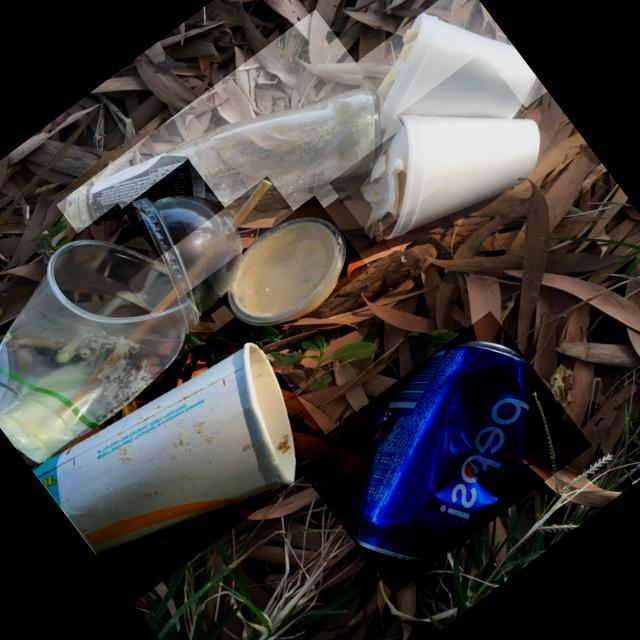Cup: (33, 343, 296, 555), (0, 239, 187, 463), (380, 114, 541, 240), (381, 14, 537, 132)
Drink can: (352, 341, 537, 566)
Food container: (228, 217, 346, 326)
Glass bottle: (67, 88, 383, 227)
Lid: (132, 195, 242, 332), (228, 217, 346, 326)
Straw: (151, 180, 272, 313)
Unlabeled litter: (361, 128, 408, 230)
